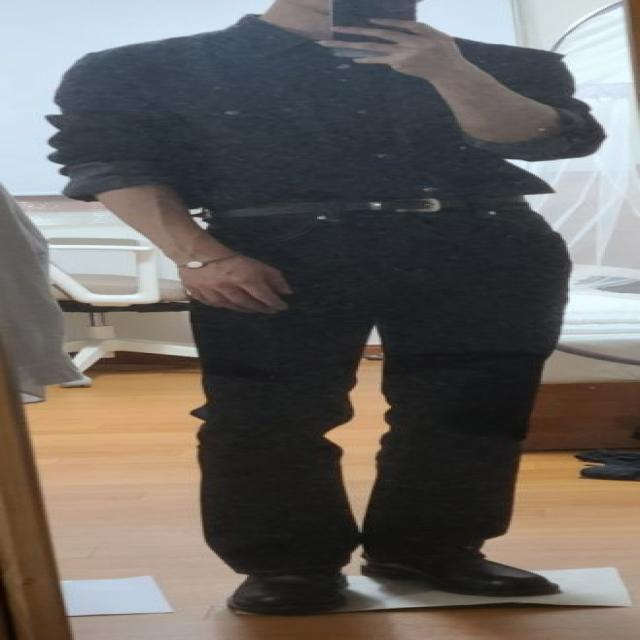denimpants: (190, 200, 573, 582)
shirt: (47, 18, 608, 214)
